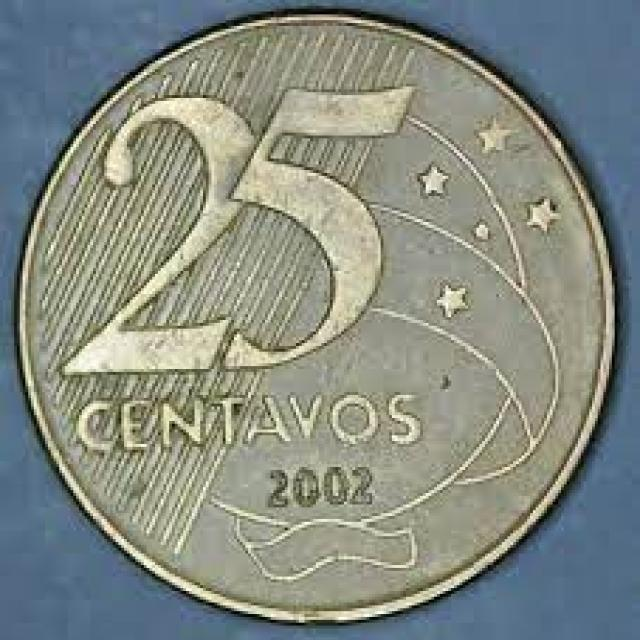25 cent: (31, 2, 596, 614)
